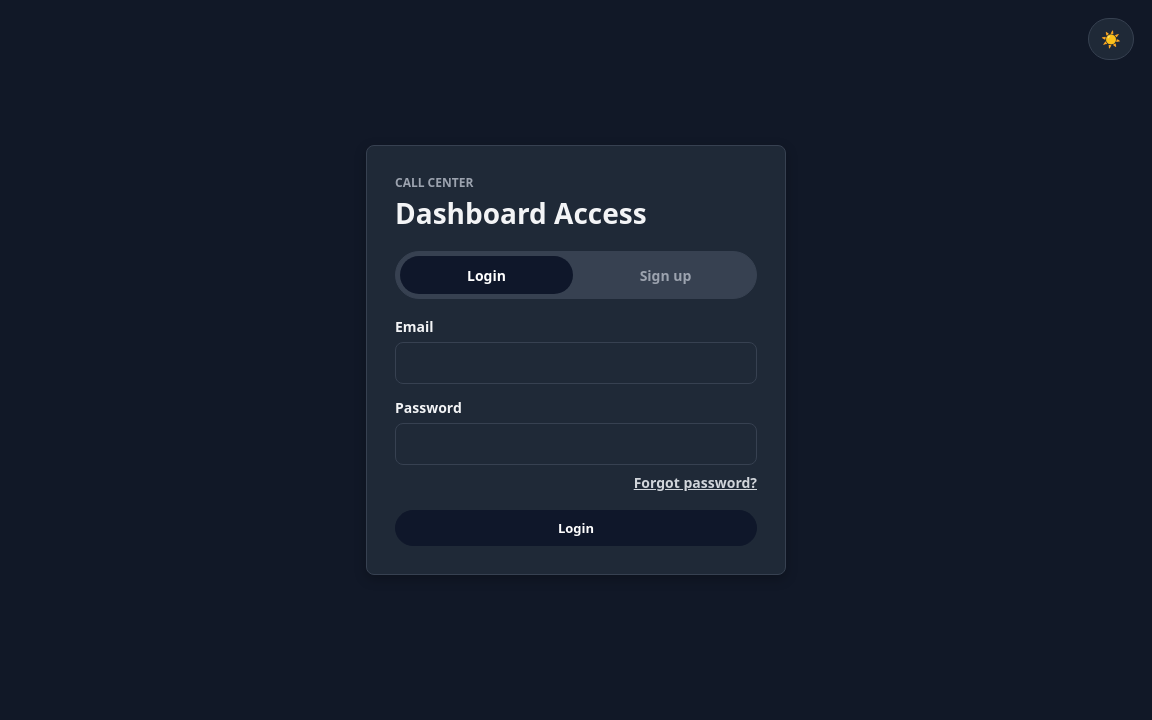
Test: App auth gate › logs in through the backend auth API
In the field labelled "Email": (576, 363) [395,342,757,384], type "stored@example.com"
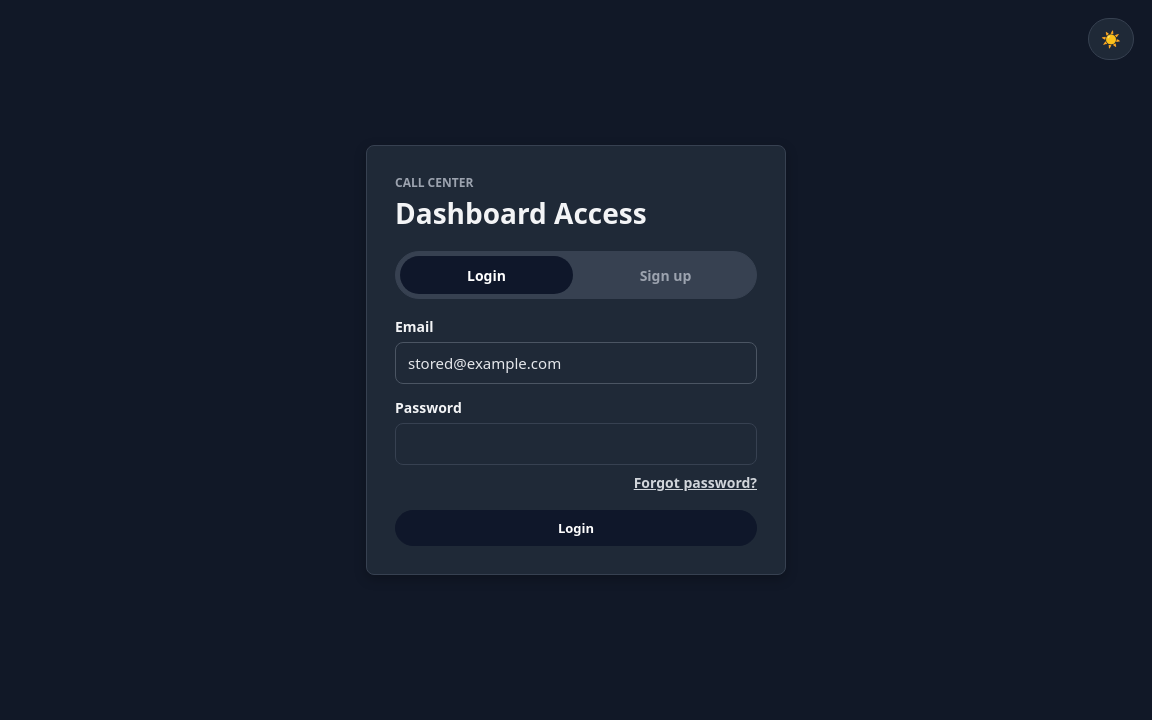
In the password field labelled "Password": (576, 444) [395,423,757,465], type "password123"
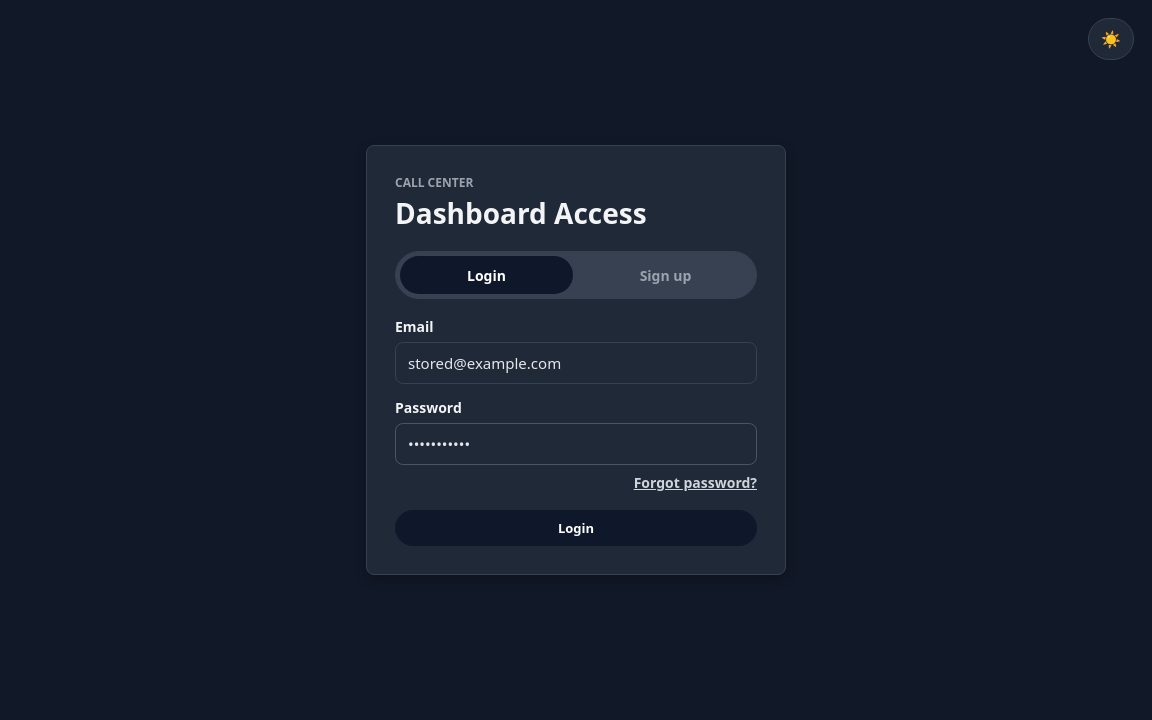
Click the button "Login": (576, 528) [395,510,757,546]
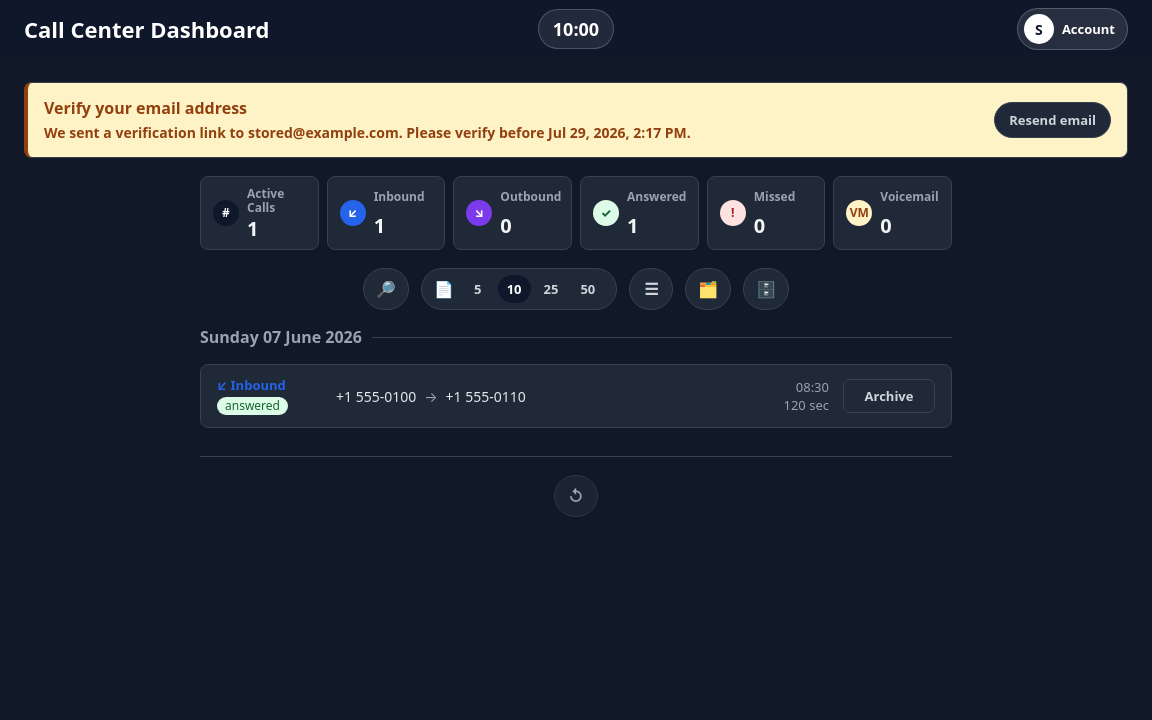
Expected: the text "+1 555-0100" is shown, [336,387,416,406]
Click the button with aria-label "Open account settings": (1072, 29) [1017,8,1128,50]
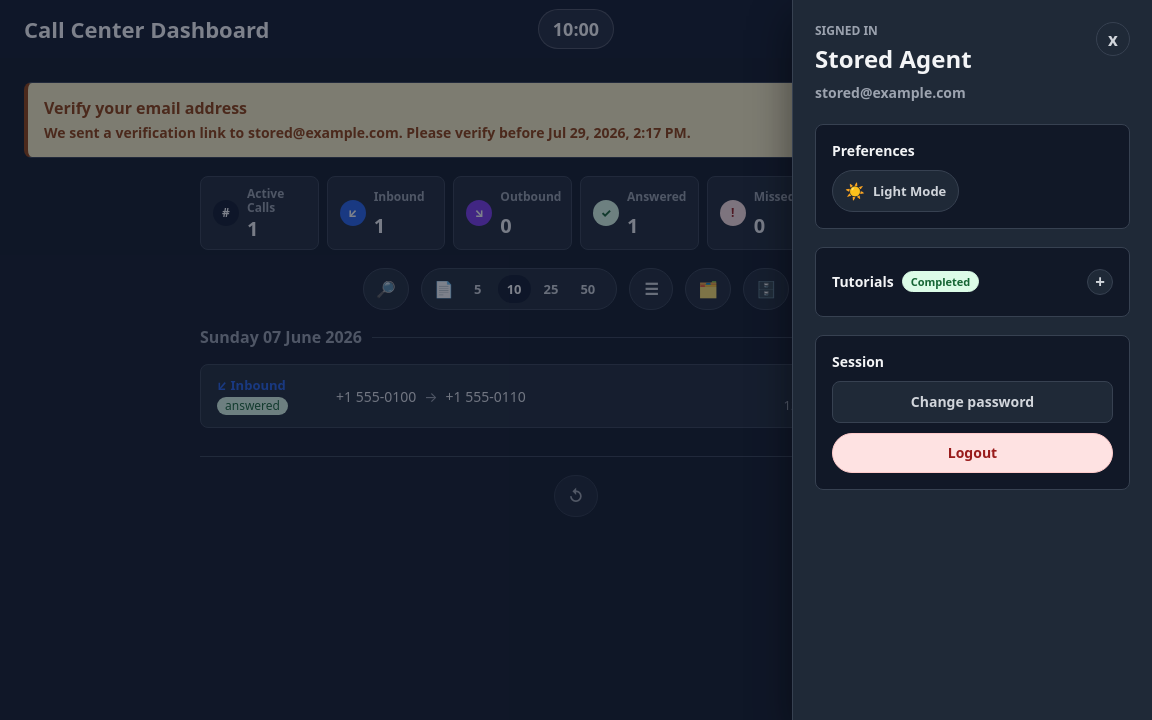
Expected: the dialog "Stored Agent" is shown, [792,0,1151,719]
